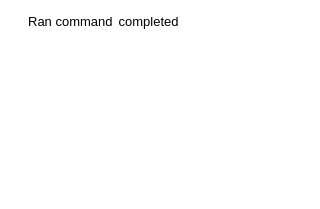
Messages › persists tool row expand state per thread across thread switches
The image size is (320, 209).
Later steps or results of the test are not shown.
Click the button with aria-label "切换工具详情": point(97, 22) [16,12,178,32]
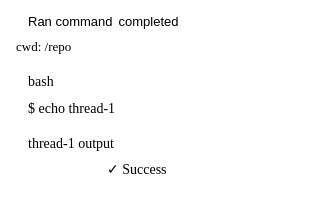
Check: the element with class "tool-inline-terminal" is shown, box [16,61,178,192]
